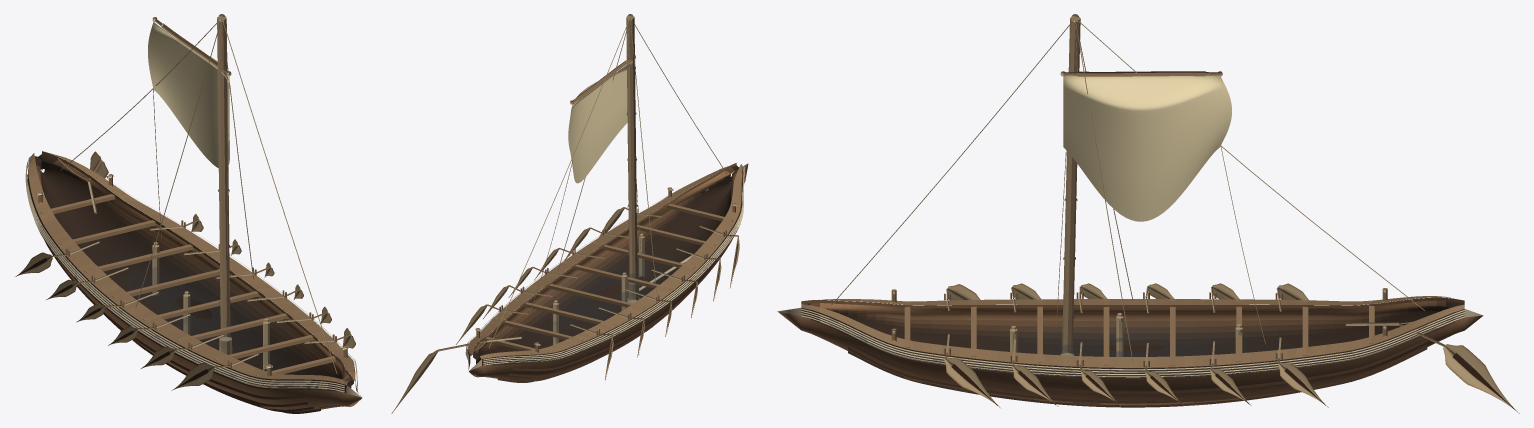
File: japan_quasi_war.glb
3 views of the same model, side by side, from view 1: azimuth 30°, elevation 25°; view 2: azimuth 150°, elevation 25°; view 3: azimuth 270°, elevation 25° (orthographic). The views are drawn at different scales.
Visible parts, largest first — view 1: Fittings, Deck, Sails, Boards, Shadow, Dugout; view 2: Fittings, Deck, Sails, Boards, Shadow, Dugout; view 3: Fittings, Deck, Sails, Boards, Dugout, Shadow.
Boxes of the visible parts, <box> form: Fittings: <box>15,14,355,390</box>; Deck: <box>35,154,353,388</box>; Sails: <box>148,22,229,167</box>; Boards: <box>25,157,357,413</box>; Shadow: <box>127,267,261,349</box>; Dugout: <box>29,159,361,411</box>; Fittings: <box>391,14,742,413</box>; Deck: <box>473,165,738,363</box>; Sails: <box>568,59,635,183</box>; Boards: <box>465,166,744,382</box>; Shadow: <box>551,259,663,328</box>; Dugout: <box>468,164,748,382</box>; Fittings: <box>801,14,1519,413</box>; Deck: <box>803,300,1464,356</box>; Sails: <box>1063,75,1231,221</box>; Boards: <box>801,299,1464,407</box>; Dugout: <box>777,311,1482,405</box>; Shadow: <box>1018,326,1250,356</box>.
Bounding box in the file's own units: 2.68 × 4.9 × 8.62.
